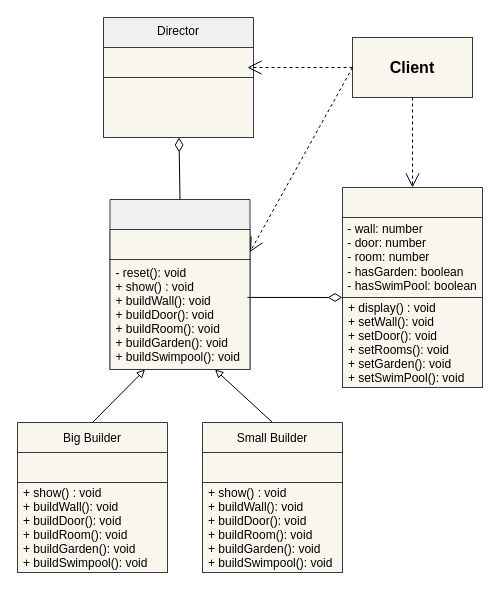
Image size: 500x590. Some labels were removed from this diagram. Each missing label, with the box of its shape:
# house: House: (109, 228, 250, 260)
+ setBuilder(builder): void + make(): void + getBuilding(): void: (102, 76, 254, 138)
- builder: Builder: (102, 46, 254, 78)
Builder: (109, 198, 250, 370)
House: (342, 186, 482, 388)
